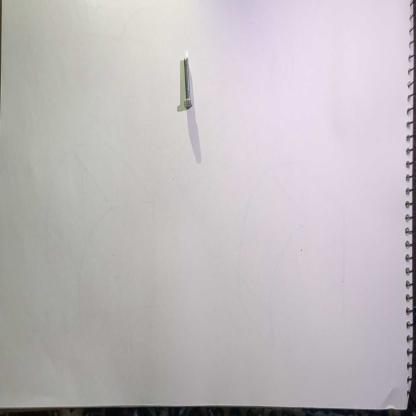Bolts: (180, 52, 195, 111)
